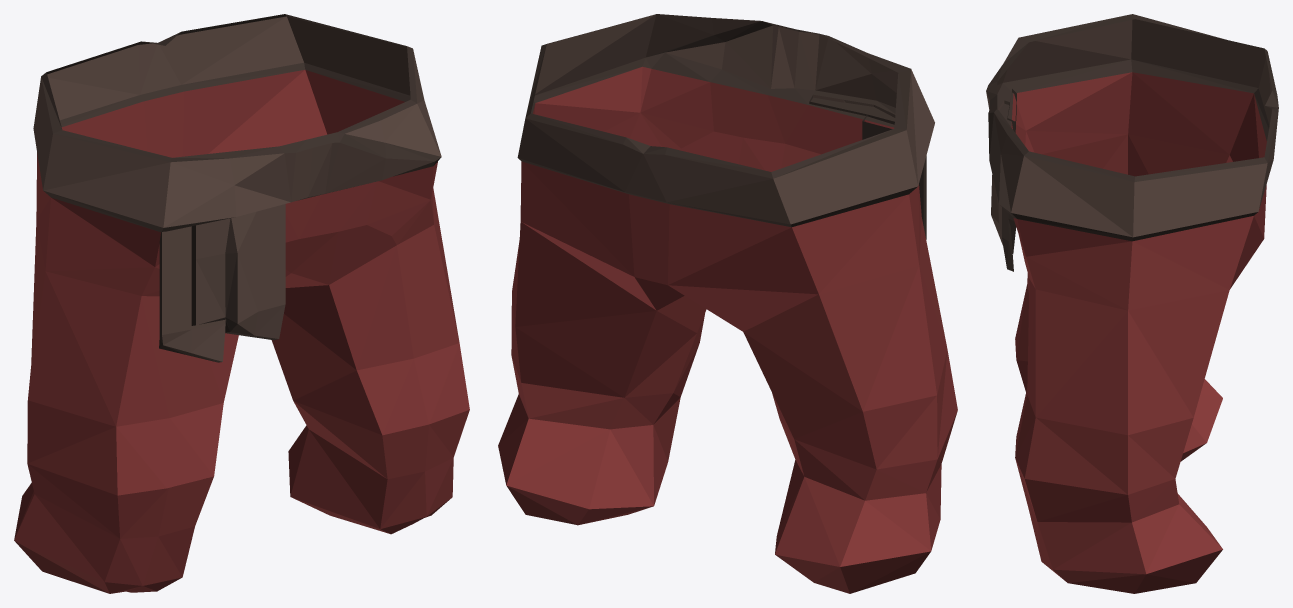
The model's file is WarriorLegs.dae.
3 renders of one model, left to right at view 1: azimuth 30°, elevation 25°; view 2: azimuth 150°, elevation 25°; view 3: azimuth 270°, elevation 25°, orthographic. The views are drawn at different scales.
Parts seen in each view (by area): view 1: Legs; view 2: Legs; view 3: Legs.
Part boxes in pixels (x1,y1,x2,y2): Legs: (14,14,469,593); Legs: (498,14,957,593); Legs: (986,14,1278,593).
Bounding box in the file's own units: 2.52 × 1.59 × 2.53.
